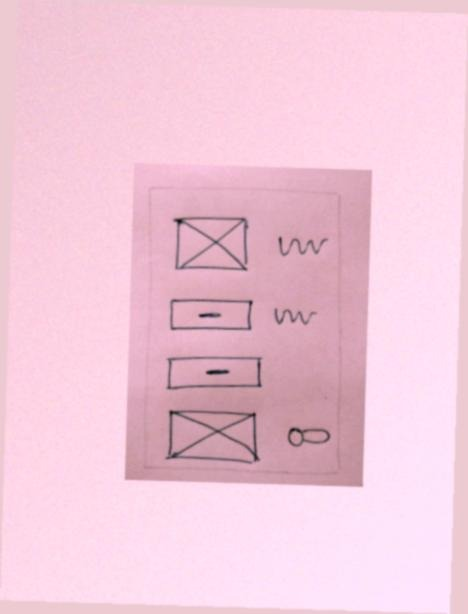image: (163, 408, 264, 468), (169, 212, 255, 277)
switch: (283, 420, 332, 454)
text: (269, 303, 320, 334), (274, 231, 329, 259)
text_input: (162, 353, 270, 399), (165, 293, 257, 337)
